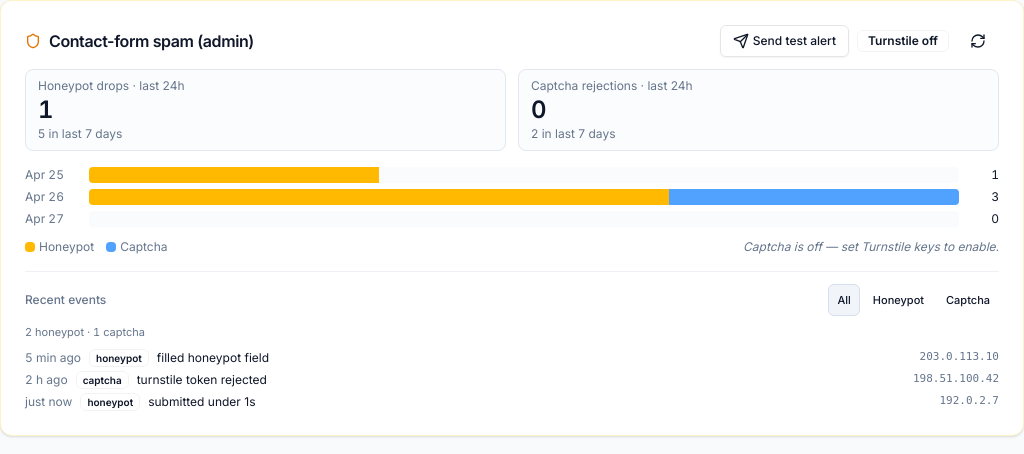
Test: SpamStatsCard fetch-driven states › recent-events scanning aids › filters rows by kind via the toggle and restores them with All
The image size is (1024, 454).
expect the element with test id "admin-spam-recent" is shown: met, box x1=25 y1=271 x2=999 y2=410
expect the number of list items with test id "admin-spam-recent-row" is 3: met, box x1=25 y1=348 x2=999 y2=366; x1=25 y1=370 x2=999 y2=388; x1=25 y1=392 x2=999 y2=410
Step 1. Click the button with test id "admin-spam-recent-filter-honeypot" → (898, 300), box x1=864 y1=284 x2=933 y2=316
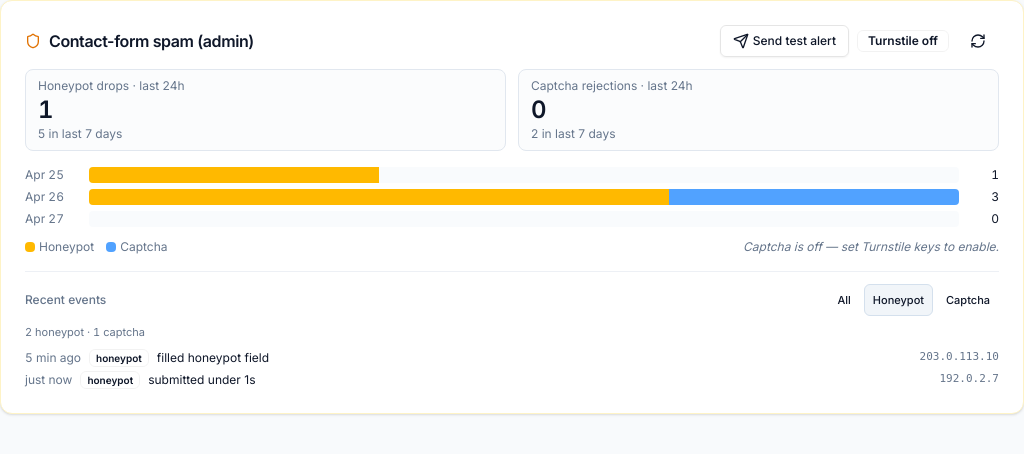
expect the text with test id "admin-spam-recent-summary" shows "1 captcha": met, box x1=25 y1=325 x2=145 y2=339
expect the number of list items with test id "admin-spam-recent-row" is 2: met, box x1=25 y1=348 x2=999 y2=366; x1=25 y1=370 x2=999 y2=388
Step 2. Click the button with test id "admin-spam-recent-filter-captcha" → (968, 300), box x1=937 y1=284 x2=999 y2=316
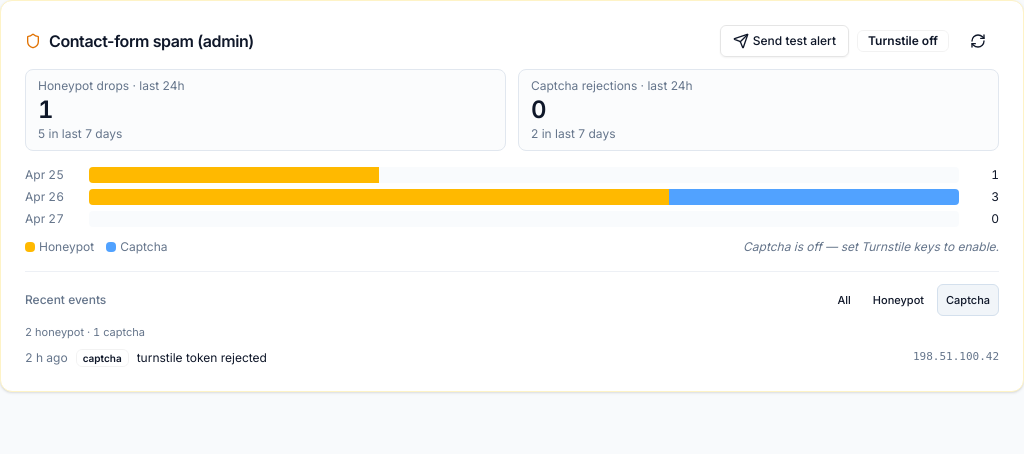
expect the number of list items with test id "admin-spam-recent-row" is 1: met, box x1=25 y1=348 x2=999 y2=366
Step 3. Click the button with test id "admin-spam-recent-filter-all" → (844, 300), box x1=828 y1=284 x2=860 y2=316
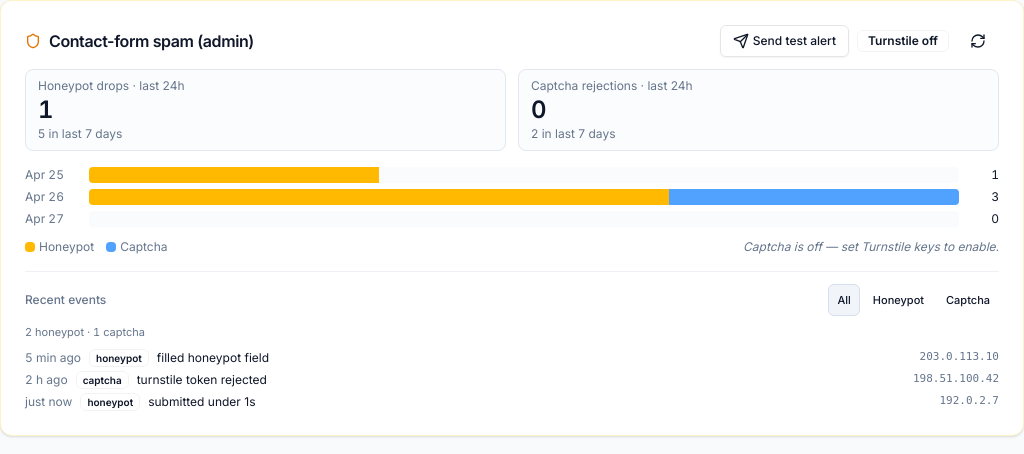
expect the number of list items with test id "admin-spam-recent-row" is 3: met, box x1=25 y1=348 x2=999 y2=366; x1=25 y1=370 x2=999 y2=388; x1=25 y1=392 x2=999 y2=410
